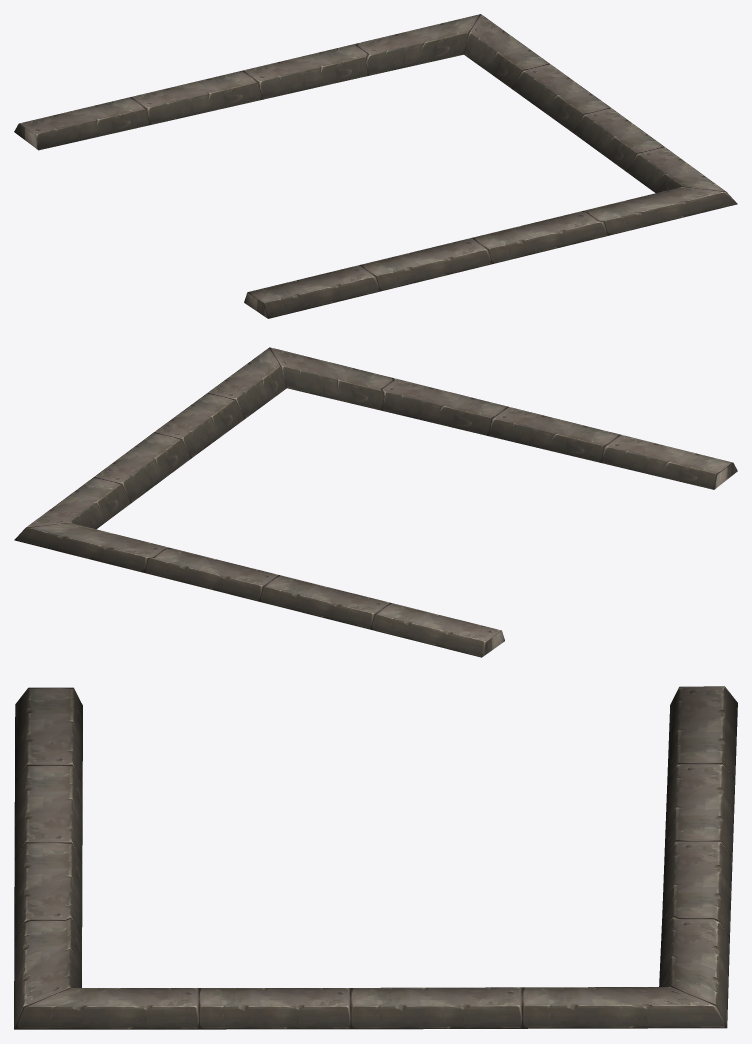
Rendered from wintergrasp_courtyardcurb03_set0.obj.
The picture shows the model from 3 angles, top to bottom: view 1: azimuth 30°, elevation 25°; view 2: azimuth 150°, elevation 25°; view 3: azimuth 270°, elevation 25°; orthographic projection. The views are drawn at different scales.
Parts seen in each view (by area): view 1: wintergrasp_courtyardcurb03_set0; view 2: wintergrasp_courtyardcurb03_set0; view 3: wintergrasp_courtyardcurb03_set0.
Boxes of the visible parts, x1=… form: wintergrasp_courtyardcurb03_set0: x1=14, y1=14, x2=737, y2=318; wintergrasp_courtyardcurb03_set0: x1=14, y1=347, x2=737, y2=657; wintergrasp_courtyardcurb03_set0: x1=14, y1=686, x2=737, y2=1029.
Bounding box in the file's own units: 83.46 × 2.87 × 78.31.
Materials: 1 (1 with a texture image).
